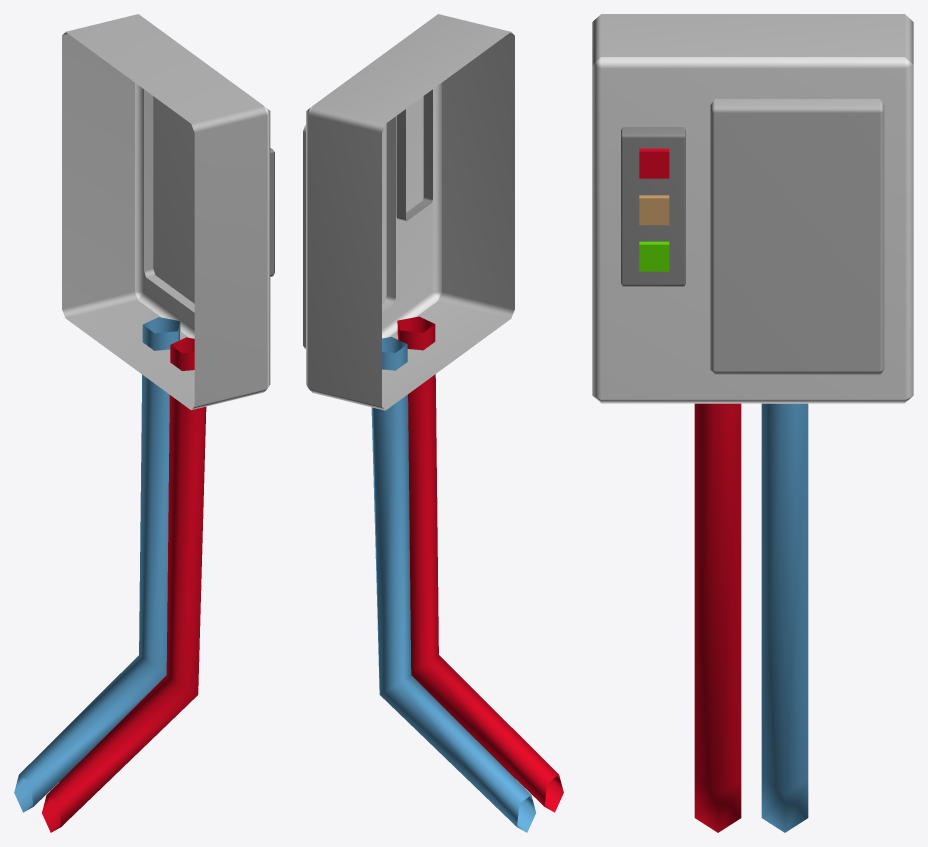
File: Appareil.fbx
The picture shows the model from 3 angles, left to right: view 1: azimuth 30°, elevation 25°; view 2: azimuth 150°, elevation 25°; view 3: azimuth 270°, elevation 25°; orthographic projection. The views are drawn at different scales.
Parts seen in each view (by area): view 1: Base, Rope1, Rope2; view 2: Base, Rope2, Rope1; view 3: Base, Rope1, Rope2.
Boxes of the visible parts, x1=… form: Base: x1=62, y1=14, x2=274, y2=410; Rope1: x1=42, y1=337, x2=206, y2=832; Rope2: x1=14, y1=317, x2=180, y2=812; Base: x1=303, y1=14, x2=514, y2=410; Rope2: x1=371, y1=337, x2=535, y2=832; Rope1: x1=397, y1=316, x2=563, y2=812; Base: x1=592, y1=14, x2=913, y2=403; Rope1: x1=694, y1=403, x2=741, y2=832; Rope2: x1=761, y1=403, x2=808, y2=832.
Bounding box in the file's own units: 0.4775 × 1.74 × 0.5796.
